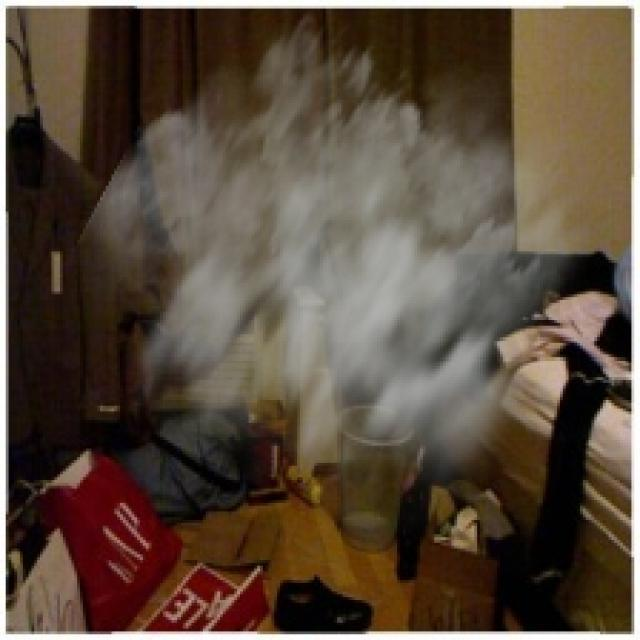Smoke: (57, 9, 609, 572)
